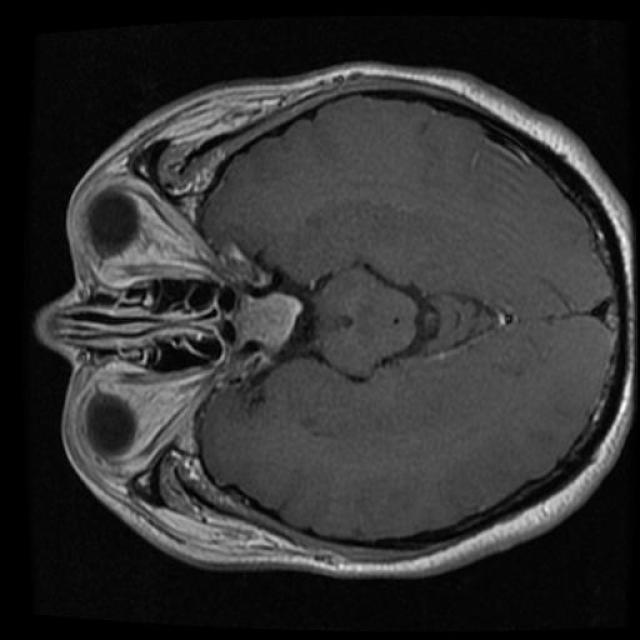Pituitary: (233, 293, 301, 351)
